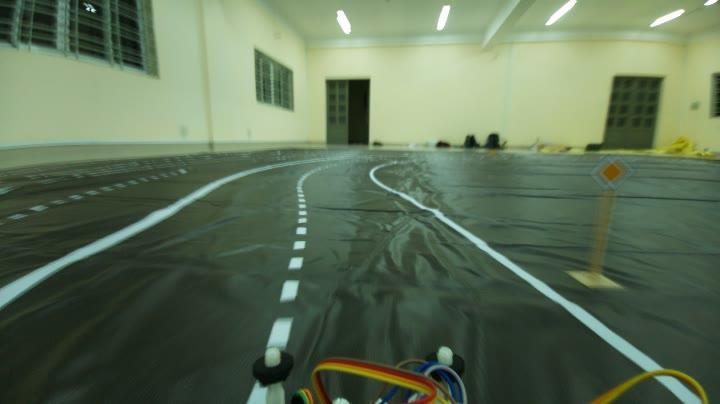priority: (590, 154, 630, 198)
